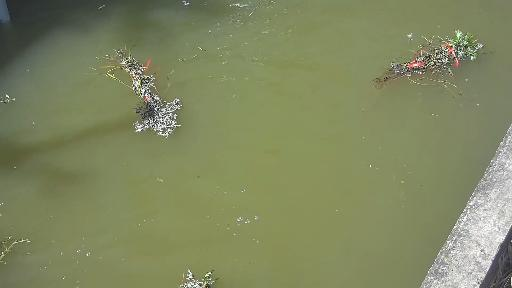twig: (94, 43, 185, 133), (364, 37, 499, 94), (169, 258, 239, 288), (0, 236, 41, 271)
